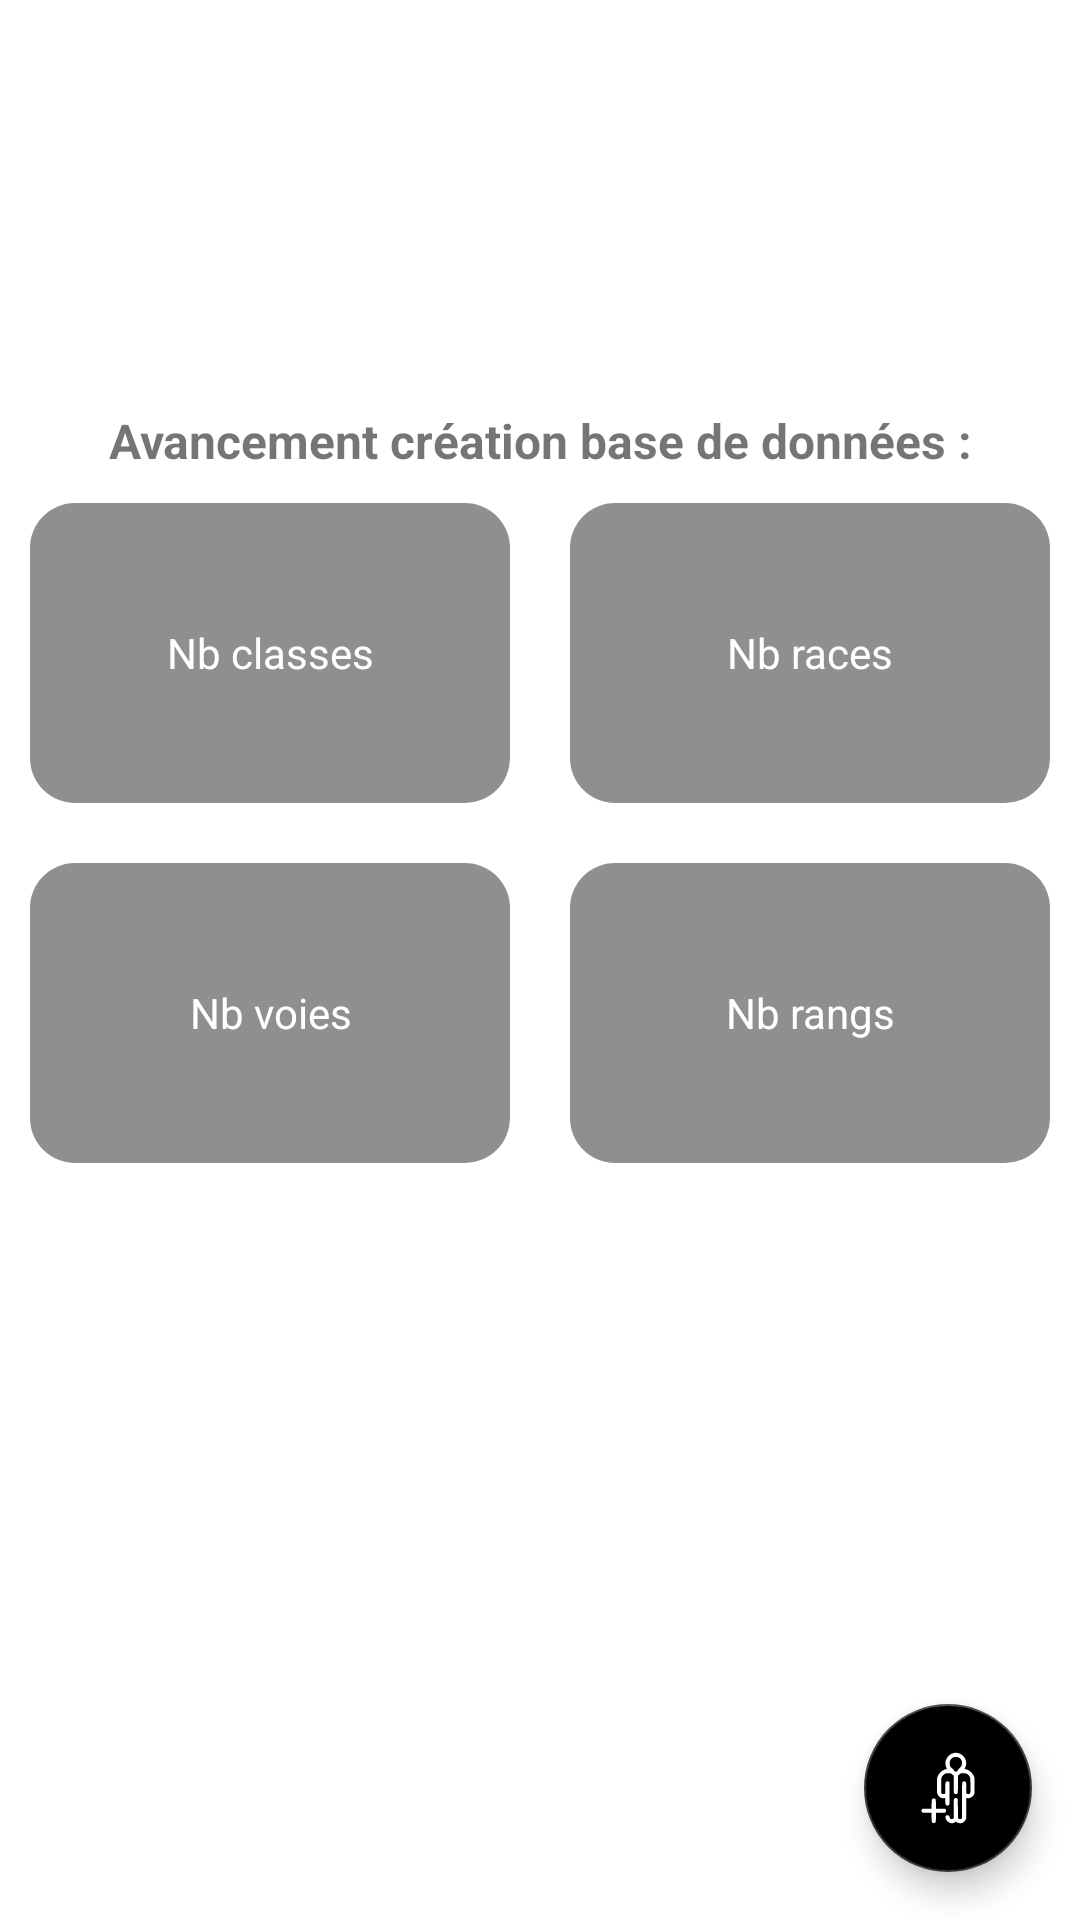

Icons on this 1080×1920 Android screen, each with its box as (x1, y1, x2, y2):
add character: (864, 1704, 1032, 1872)
